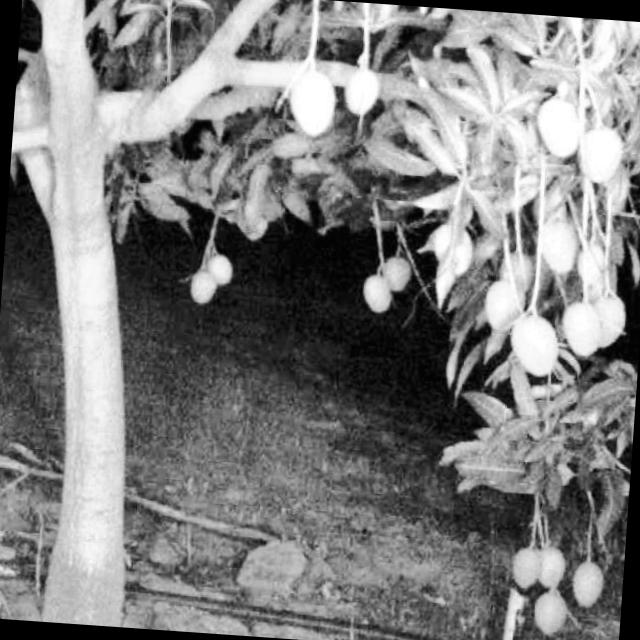Tree: (0, 0, 311, 637)
